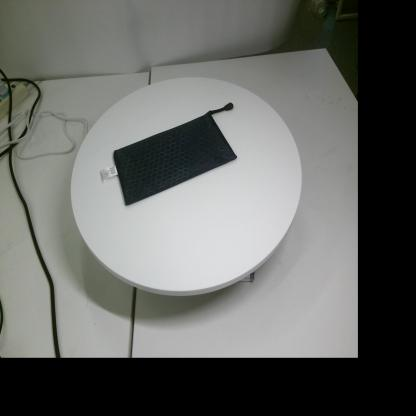Stationery: (100, 102, 237, 206)
